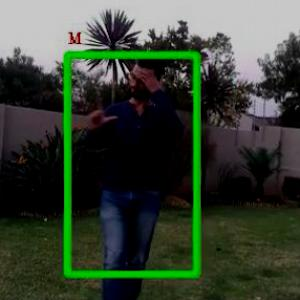land_hand: (85, 85, 118, 131)
